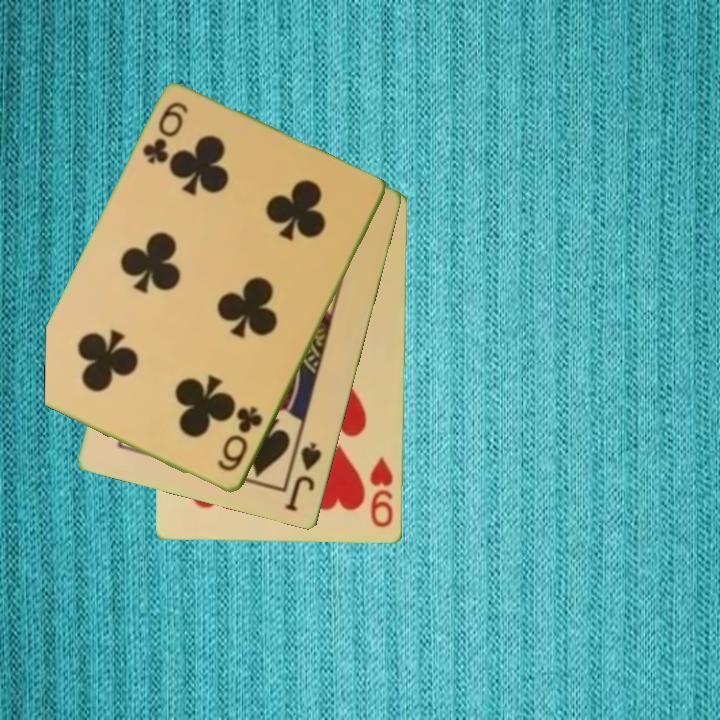6c: (214, 403, 266, 475), (139, 98, 191, 168)
9h: (367, 454, 396, 530)
Js: (282, 439, 325, 515)
